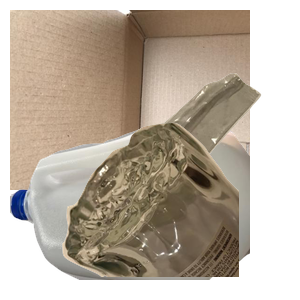cardboard: (10, 10, 250, 190)
glass: (60, 120, 300, 300)
plastic: (10, 120, 250, 300)
trash: (158, 71, 300, 227)
